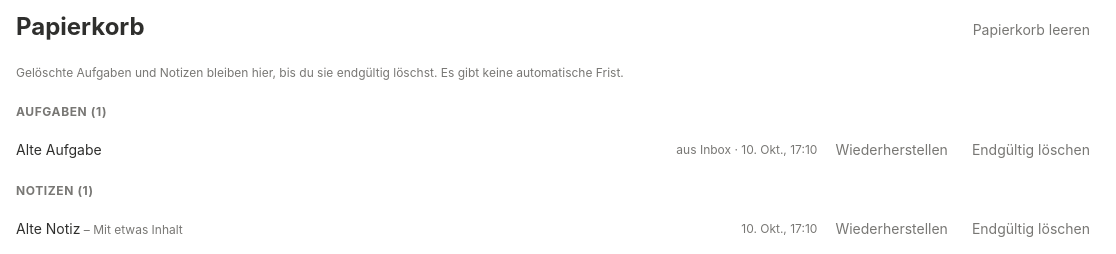
TrashView › leert den ganzen Papierkorb erst nach Bestätigung
Click the button "Papierkorb leeren" at (1031, 30), box [967,19,1096,40]
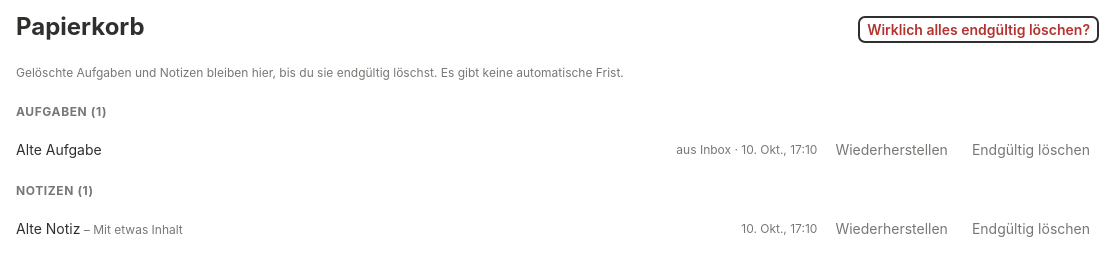
Click the button with aria-label "Papierkorb leeren Wirklich alles endgültig löschen?" at (979, 30), box [861,19,1096,40]
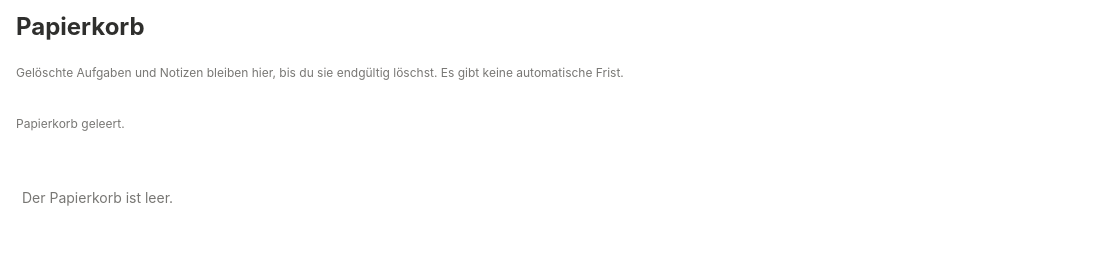
Check: the text "Der Papierkorb ist leer." is shown, box [22,189,173,206]
